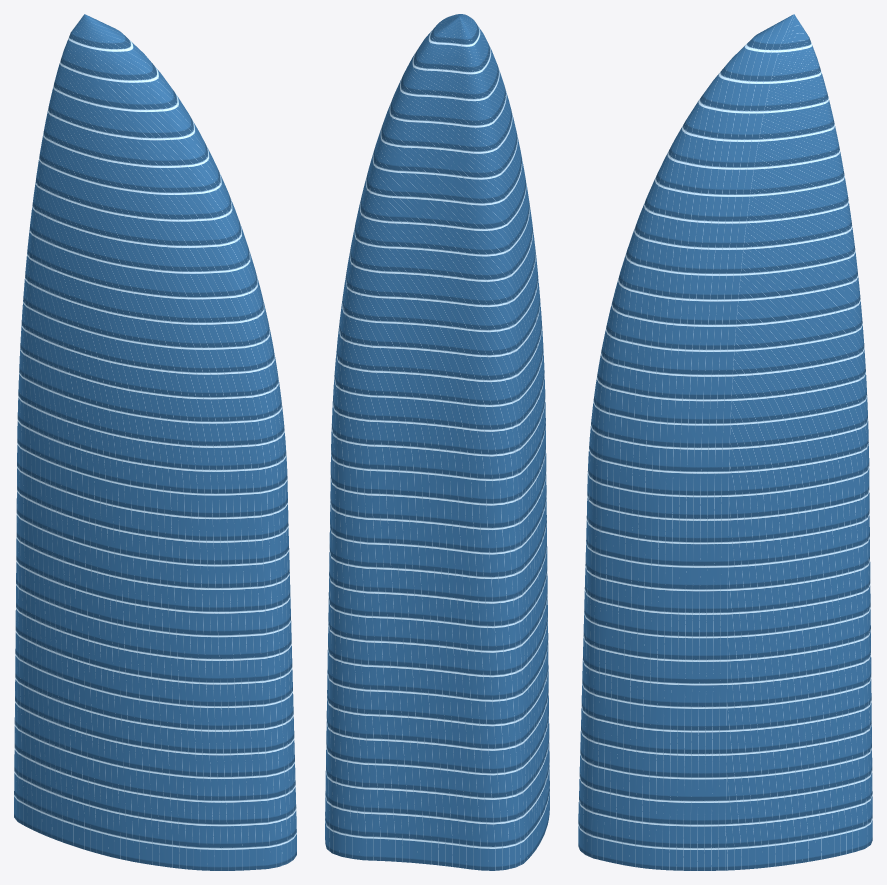
The model's file is landmark-flame-tower-1.glb.
3 renders of one model, left to right at view 1: azimuth 30°, elevation 25°; view 2: azimuth 150°, elevation 25°; view 3: azimuth 270°, elevation 25°, orthographic. The views are drawn at different scales.
Parts seen in each view (by area): view 1: flame-tower-1; view 2: flame-tower-1; view 3: flame-tower-1.
Part boxes in pixels (x1,y1,x2,y2): flame-tower-1: [14, 14, 296, 870]; flame-tower-1: [325, 14, 549, 870]; flame-tower-1: [578, 14, 872, 870].
Bounding box in the file's own units: 49.56 × 187 × 63.16.
1 material, 1 textured.
